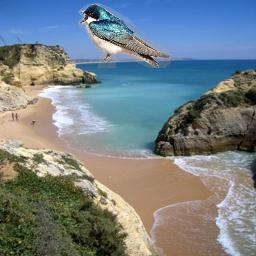Swallow: (78, 3, 171, 68)
